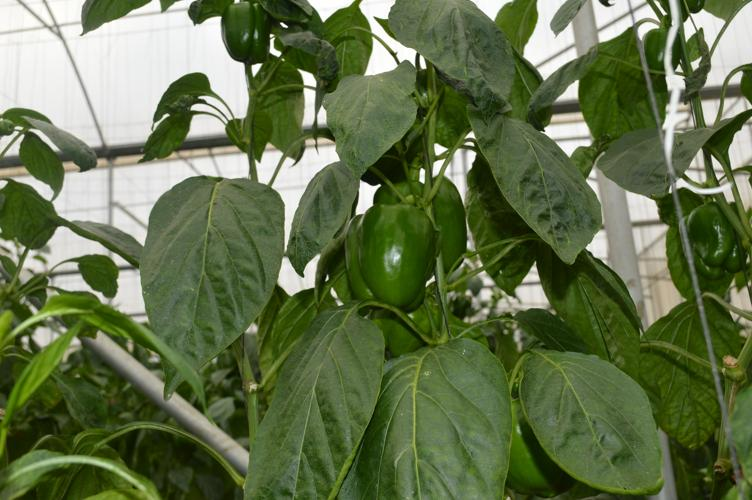BellPepper: (339, 203, 435, 317), (673, 194, 750, 290), (218, 1, 280, 78)
